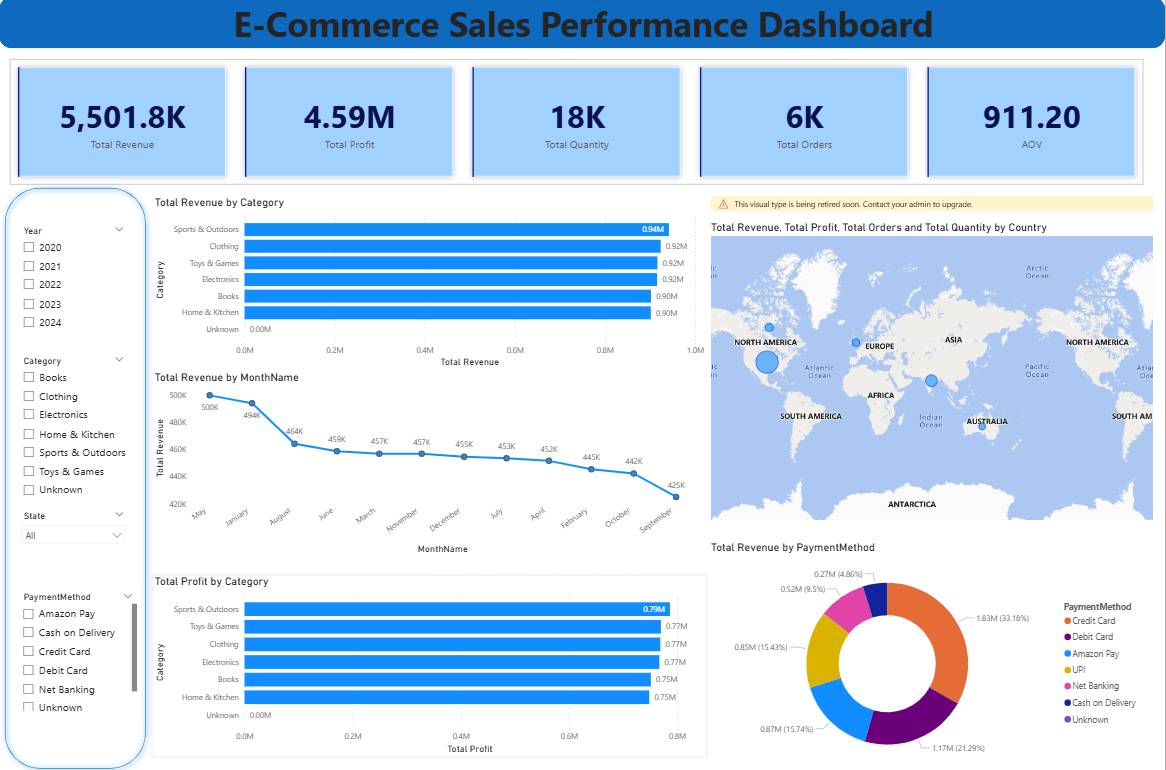

This screenshot's page, from the dashboard's own definition file:
{"tool":"powerbi","page":{"name":"Page 1","canvas":[1800,1200],"ordinal":0},"visuals":[{"type":"cardVisual","fields":{"Data":["Clean_Amazon_Sales.Total Revenue","Clean_Amazon_Sales.Total Profit","Clean_Amazon_Sales.Total Quantity","Clean_Amazon_Sales.Total Orders","Clean_Amazon_Sales.AOV"]},"box":[0,79.1,1786.9,227.7],"z":0},{"type":"shape","box":[0,0,1800.4,79.1],"z":1000},{"type":"textbox","box":[339.6,0,1125,84.9],"z":2000},{"type":"lineChart","fields":{"Category":["Clean_Amazon_Sales.MonthName"],"Y":["Clean_Amazon_Sales.Total Revenue"]},"box":[235.4,577,841.3,287.5],"z":3000},{"type":"clusteredBarChart","fields":{"Y":["Clean_Amazon_Sales.Total Revenue"],"Category":["Clean_Amazon_Sales.Category"]},"box":[235.4,306.8,858.7,270.2],"z":4000},{"type":"donutChart","fields":{"Category":["Clean_Amazon_Sales.PaymentMethod"],"Y":["Clean_Amazon_Sales.Total Revenue"]},"box":[1094.1,839.4,675.4,360.9],"z":5000},{"type":"clusteredBarChart","fields":{"Y":["Clean_Amazon_Sales.Total Profit"],"Category":["Clean_Amazon_Sales.Category"]},"box":[235.4,891.5,858.7,281.7],"z":6000},{"type":"shape","box":[0,285.6,235.4,914.7],"z":7000},{"type":"slicer","fields":{"Values":["Clean_Amazon_Sales.Year"]},"box":[25.1,347.3,179.5,173.7],"z":8000},{"type":"slicer","fields":{"Values":["Clean_Amazon_Sales.Category"]},"box":[25.1,548,179.5,239.3],"z":9000},{"type":"slicer","fields":{"Values":["Clean_Amazon_Sales.State"]},"box":[25.1,787.3,179.5,104.2],"z":10000},{"type":"slicer","fields":{"Values":["Clean_Amazon_Sales.PaymentMethod"]},"box":[25.1,912.7,193,194.9],"z":11000},{"type":"map","fields":{"Category":["Clean_Amazon_Sales.Country"],"Size":["Clean_Amazon_Sales.Total Revenue"]},"box":[1094.1,306.8,692.8,499.8],"z":12000},{"type":"textbox","box":[218.1,1173.2,1416.4,27],"z":13000}]}

Visuals, with their boxes in screenshot pixels (x1, y1, x2, y2), scaled from the page's 1800x1200 canvas onto the 1166x770 screenshot:
cardVisual - Clean_Amazon_Sales.Total Revenue x Clean_Amazon_Sales.Total Profit: [left=0, top=51, right=1158, bottom=197]
shape: [left=0, top=0, right=1165, bottom=51]
textbox: [left=220, top=0, right=949, bottom=54]
lineChart - Clean_Amazon_Sales.MonthName x Clean_Amazon_Sales.Total Revenue: [left=152, top=370, right=697, bottom=555]
clusteredBarChart - Clean_Amazon_Sales.Total Revenue x Clean_Amazon_Sales.Category: [left=152, top=197, right=709, bottom=370]
donutChart - Clean_Amazon_Sales.PaymentMethod x Clean_Amazon_Sales.Total Revenue: [left=709, top=539, right=1146, bottom=769]
clusteredBarChart - Clean_Amazon_Sales.Total Profit x Clean_Amazon_Sales.Category: [left=152, top=572, right=709, bottom=753]
shape: [left=0, top=183, right=152, bottom=769]
slicer - Clean_Amazon_Sales.Year: [left=16, top=223, right=133, bottom=334]
slicer - Clean_Amazon_Sales.Category: [left=16, top=352, right=133, bottom=505]
slicer - Clean_Amazon_Sales.State: [left=16, top=505, right=133, bottom=572]
slicer - Clean_Amazon_Sales.PaymentMethod: [left=16, top=586, right=141, bottom=711]
map - Clean_Amazon_Sales.Country x Clean_Amazon_Sales.Total Revenue: [left=709, top=197, right=1158, bottom=518]
textbox: [left=141, top=753, right=1059, bottom=769]
